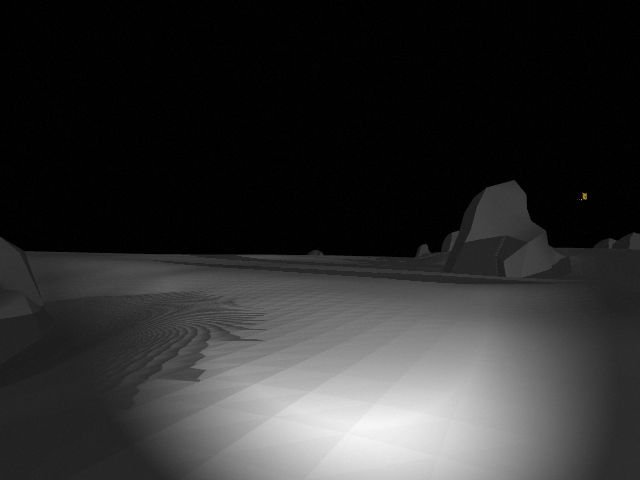cubesat: (577, 190, 590, 204)
